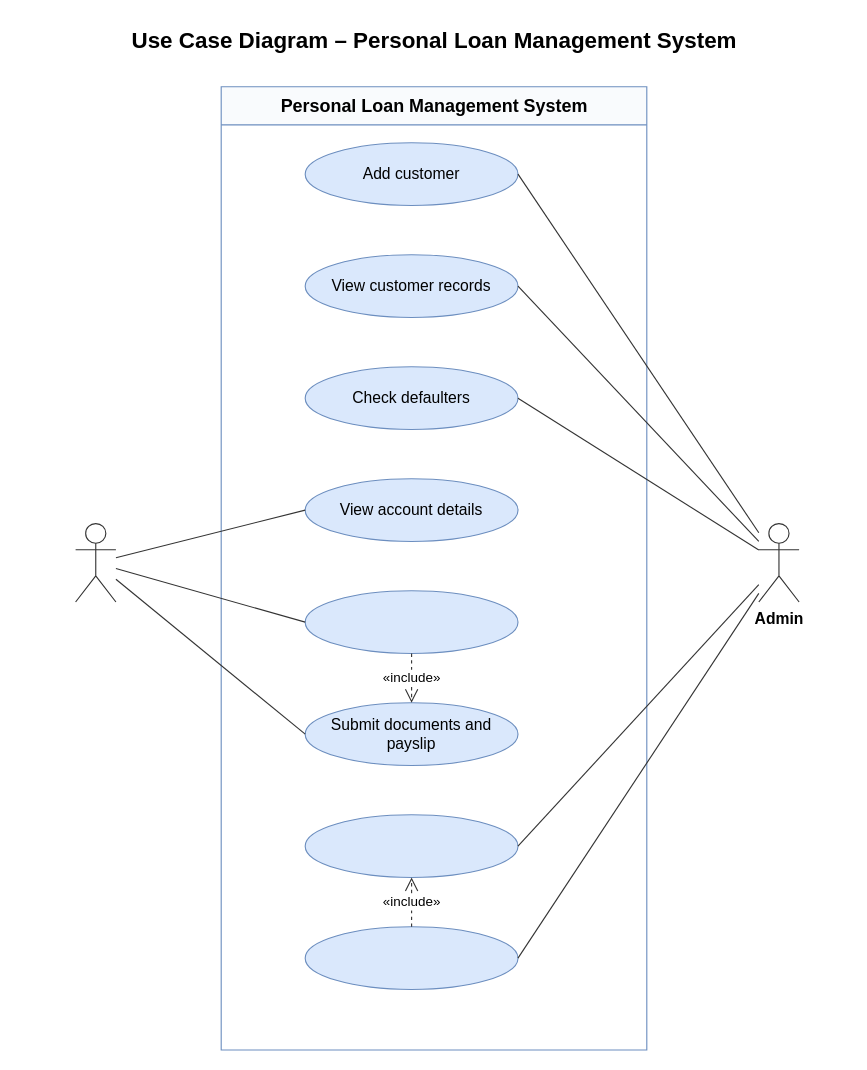
The diagram is 867 pixels wide and 1070 high, and some of its shapes have lost their labels. Each missing label, with the box of its shape:
Apply for loan: (304, 590, 518, 654)
Approve loan: (304, 926, 518, 990)
Customer: (74, 522, 116, 602)
Verify documents and payslip: (304, 814, 518, 878)
